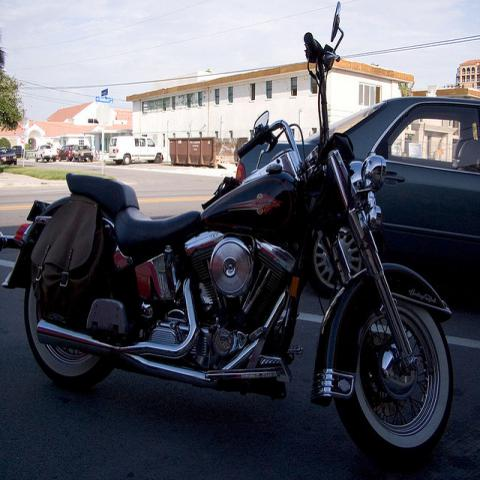car: (236, 94, 480, 300), (0, 147, 17, 166), (59, 145, 73, 163)
motorcycle: (0, 2, 460, 465)
truck: (109, 136, 166, 164), (71, 144, 96, 163), (34, 144, 58, 162), (12, 145, 22, 157)
